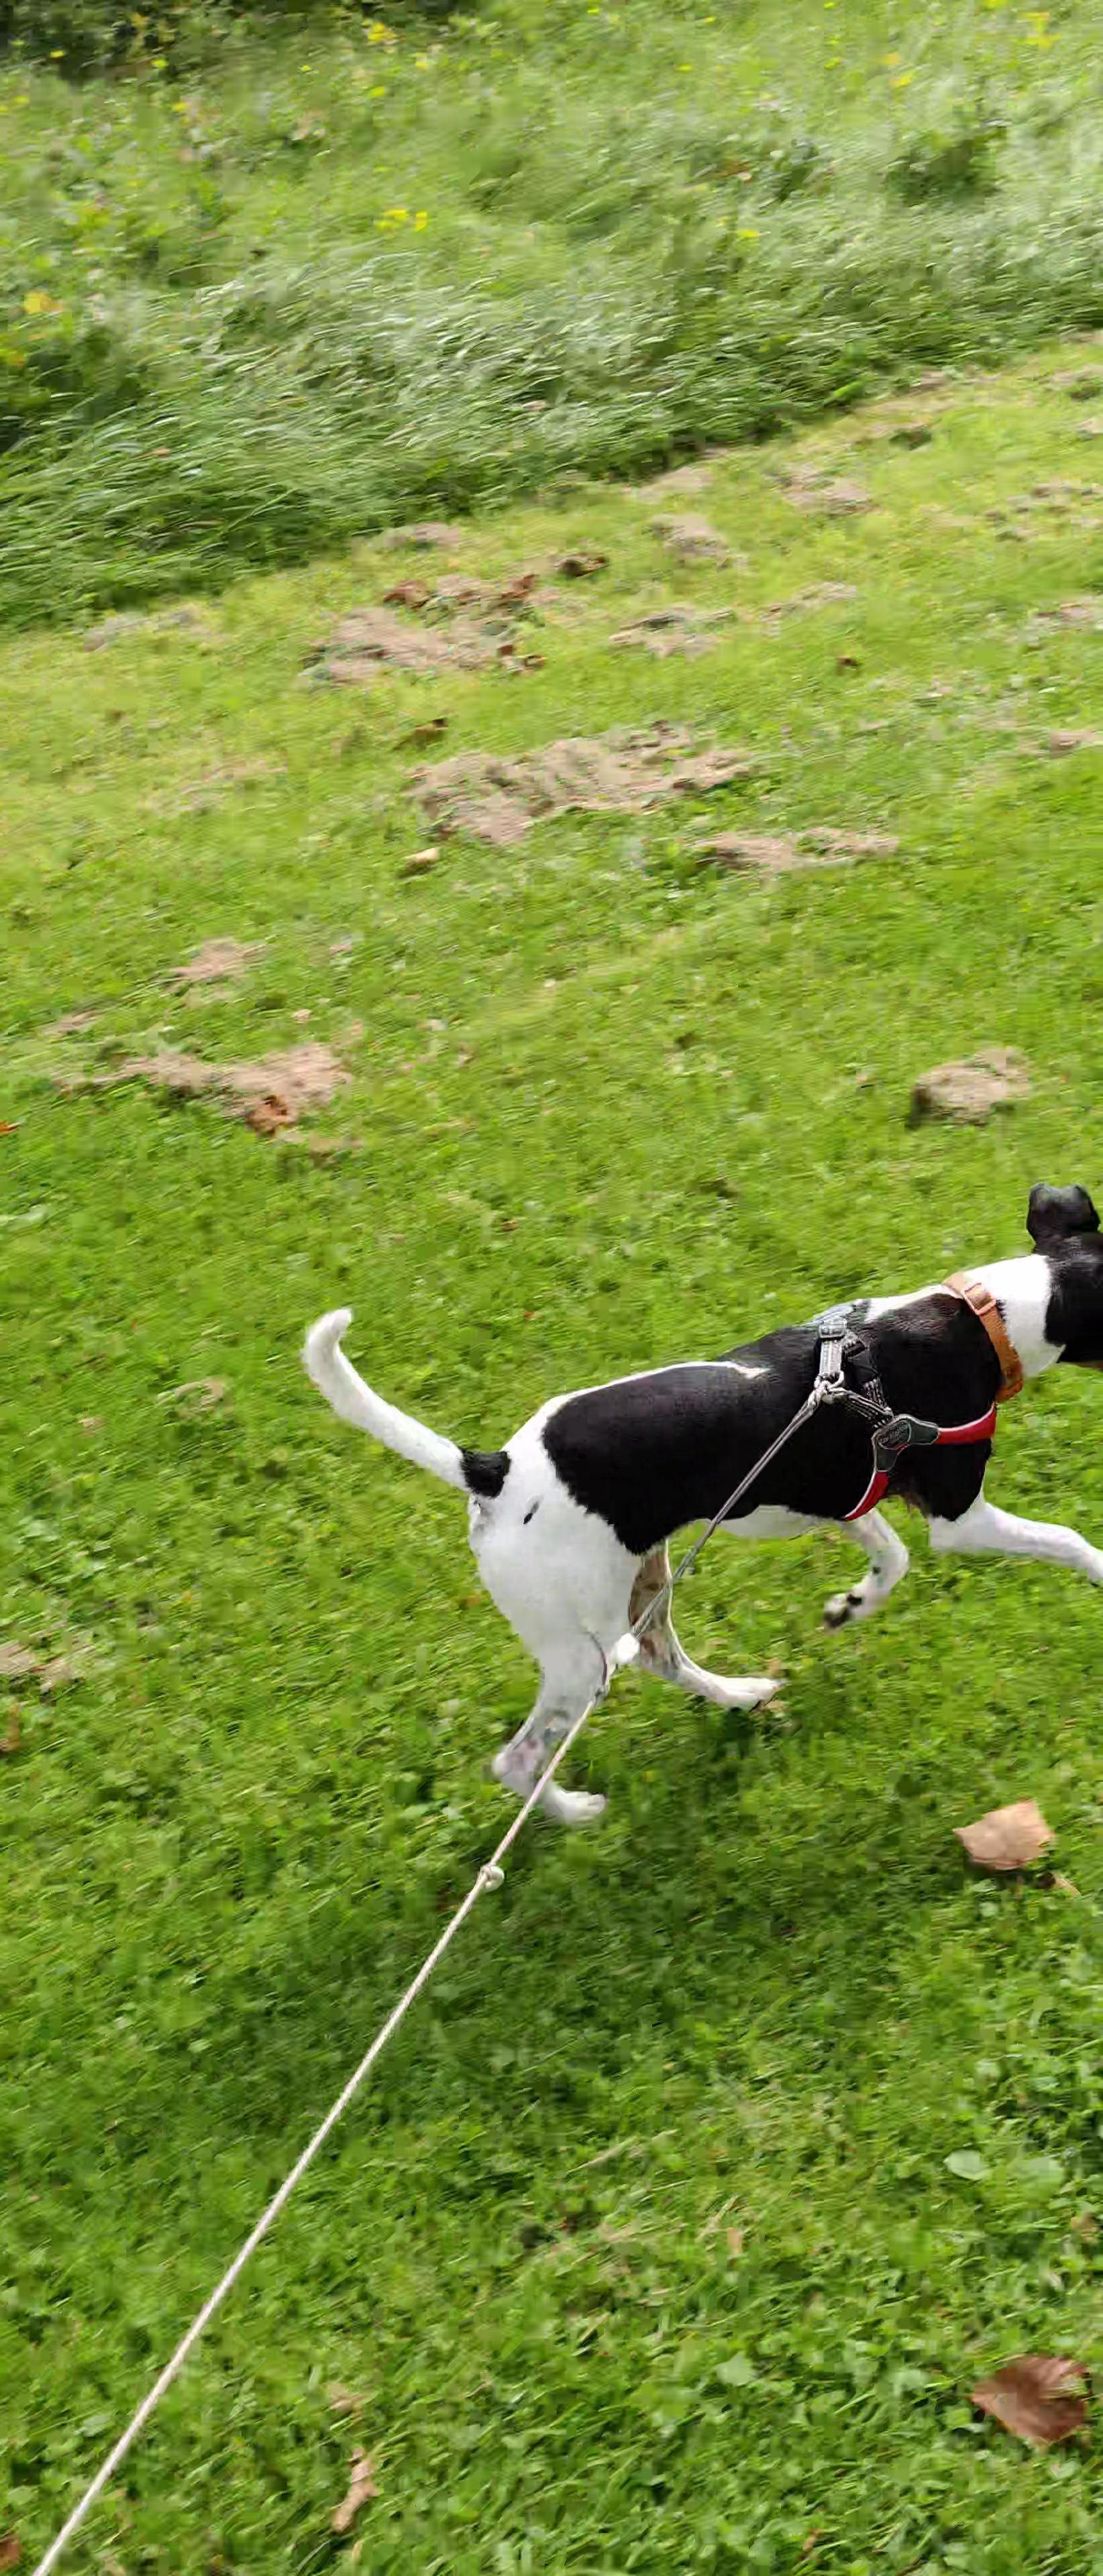Dog: (289, 1171, 1103, 1835)
